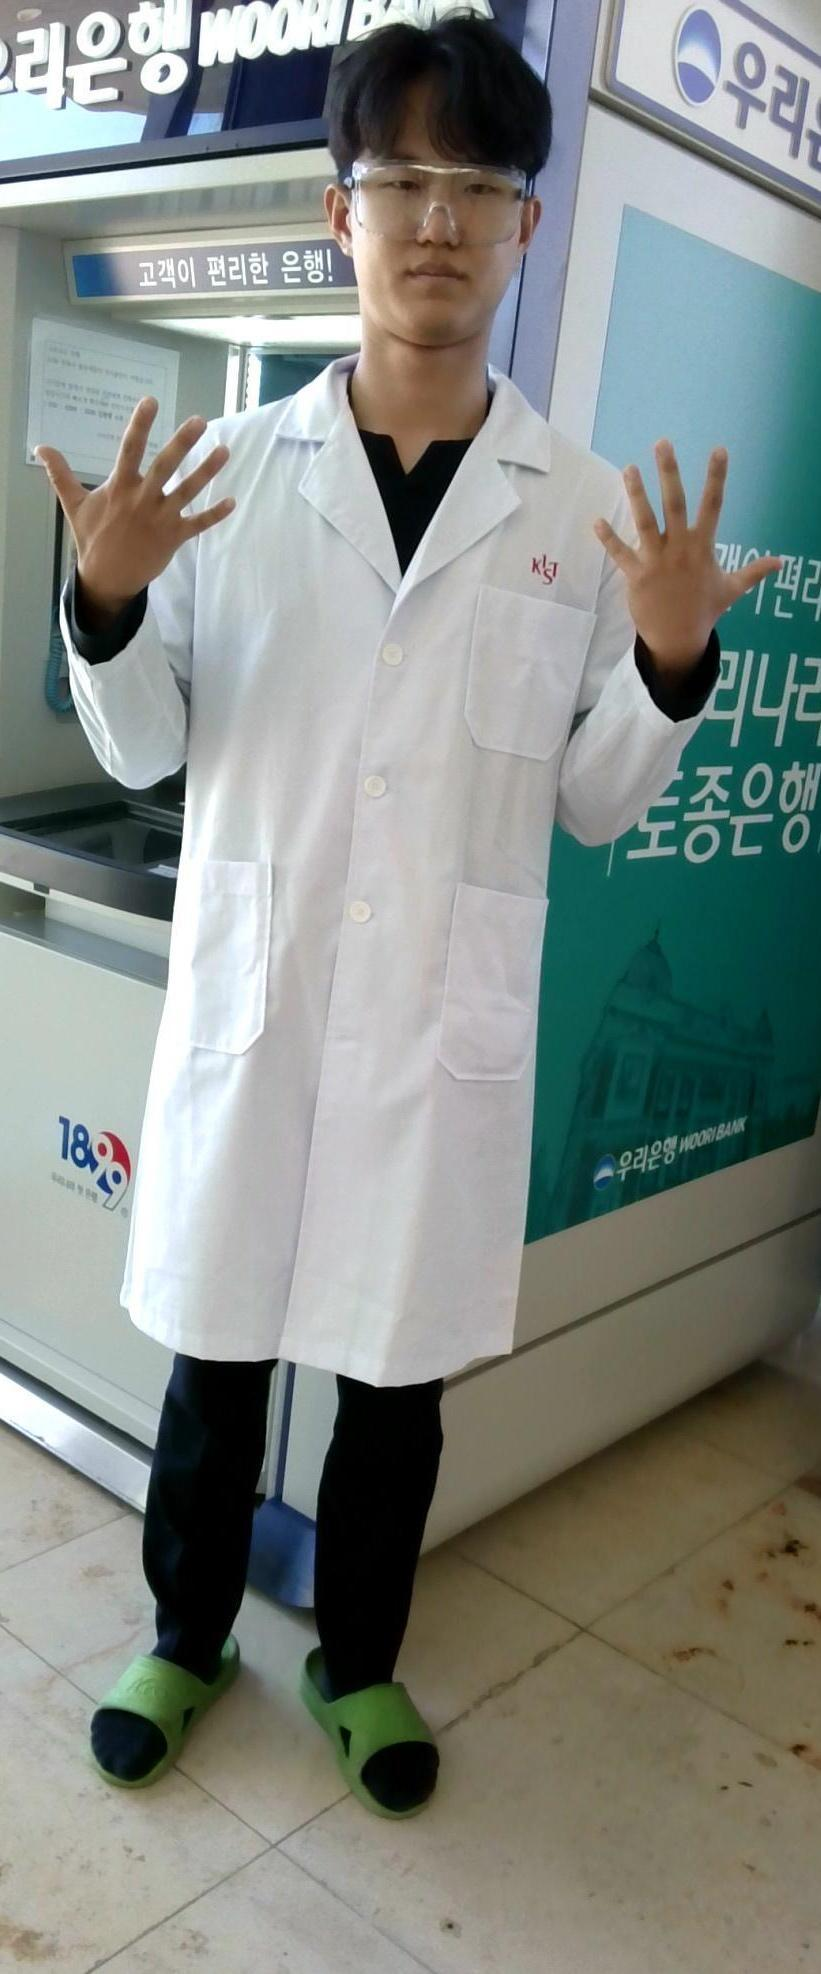lab_coat: (173, 438, 591, 1333)
